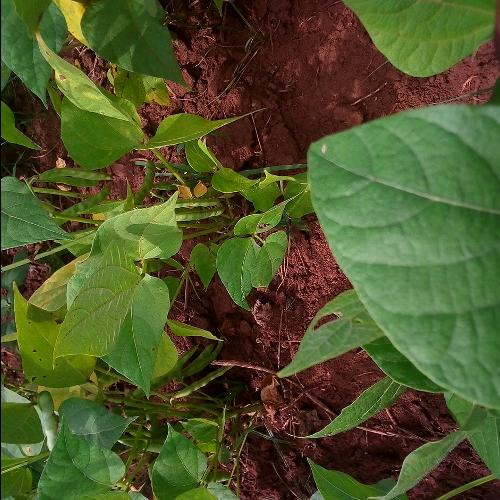mozaik: (384, 7, 472, 50)
sehat: (348, 152, 490, 270)
